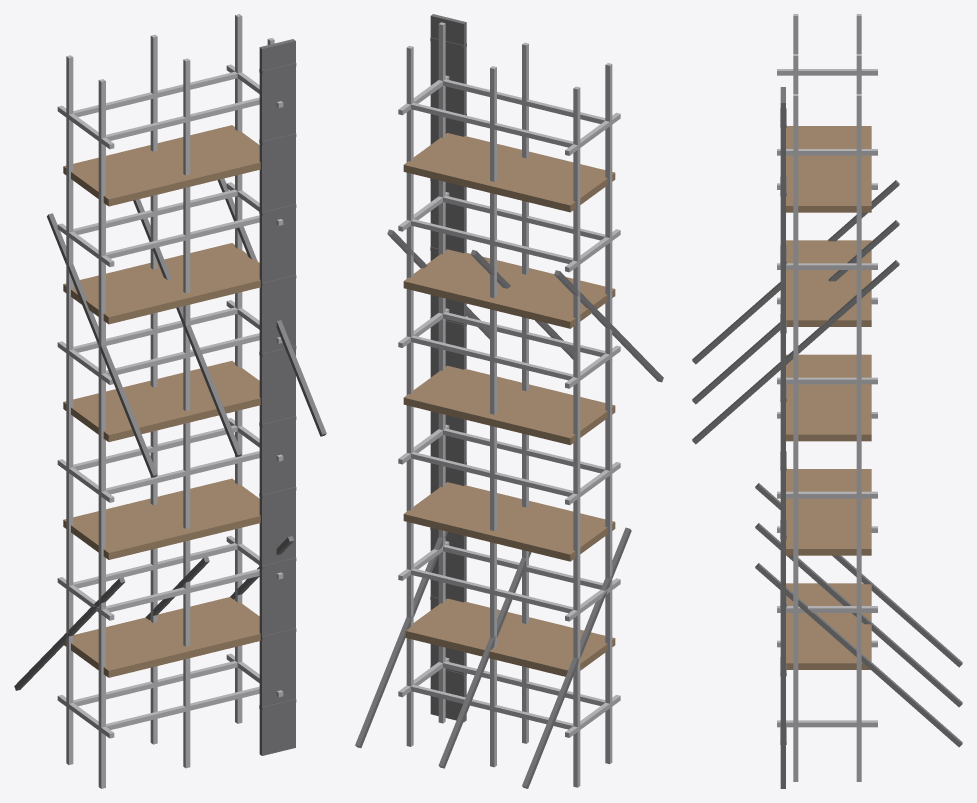
Rendered from scaffolding.glb.
The picture shows the model from 3 angles, left to right: view 1: azimuth 30°, elevation 25°; view 2: azimuth 150°, elevation 25°; view 3: azimuth 270°, elevation 25°; orthographic projection. The views are drawn at different scales.
Visible parts, largest first — view 1: wood, metal, darkMetal; view 2: metal, wood, darkMetal; view 3: wood, metal, darkMetal.
Part boxes in pixels (x1=…): wood: x1=63, y1=125, x2=260, y2=677; metal: x1=57, y1=14, x2=283, y2=788; darkMetal: x1=14, y1=39, x2=326, y2=755; metal: x1=398, y1=22, x2=620, y2=787; wood: x1=403, y1=133, x2=615, y2=676; darkMetal: x1=355, y1=14, x2=663, y2=788; wood: x1=786, y1=126, x2=871, y2=669; metal: x1=777, y1=14, x2=877, y2=781; darkMetal: x1=692, y1=87, x2=962, y2=788.
Size of the model in its own units: 3.34 by 12 by 4.28.
